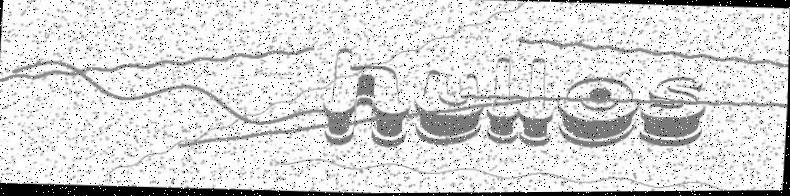h: (323, 47, 412, 148)
l: (518, 59, 556, 147), (487, 59, 522, 146)
o: (559, 77, 641, 148)
s: (640, 77, 707, 149)
u: (412, 69, 486, 147)
